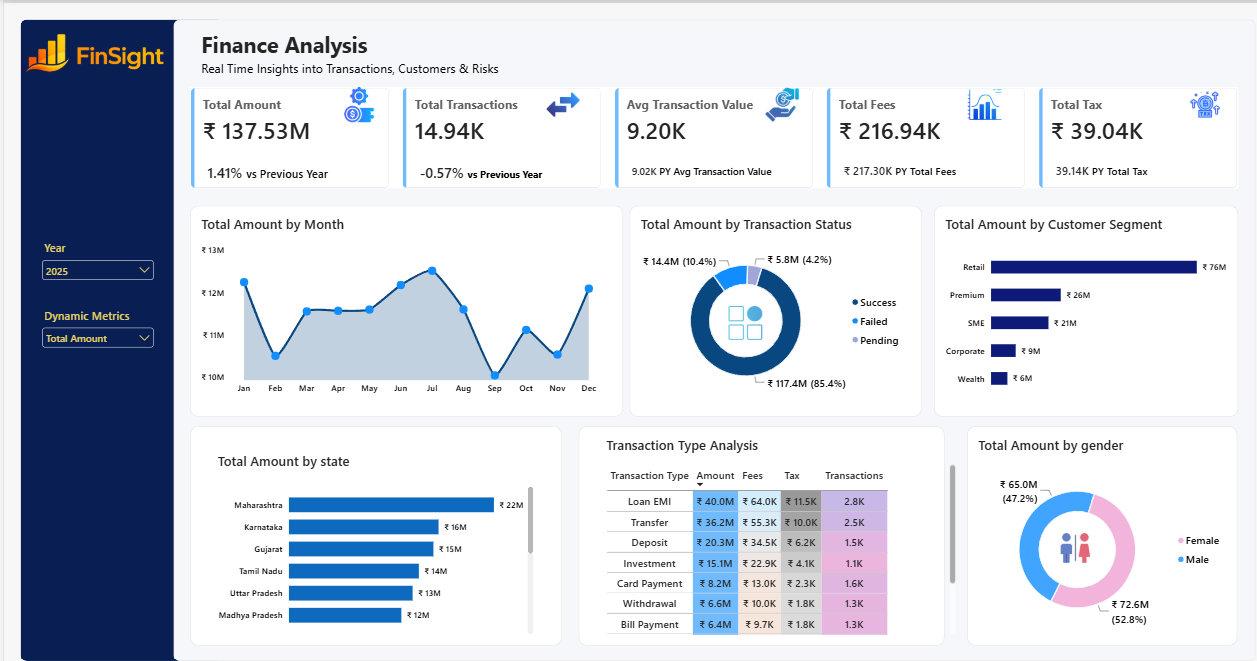

The page's visual inventory and layout, read from the dashboard file:
{"tool":"powerbi","page":{"name":"Page 1","canvas":[1800,950],"ordinal":0},"visuals":[{"type":"shape","box":[24,24,288,912],"z":0},{"type":"shape","box":[240,24,1536,912],"z":1000},{"type":"image","box":[24,24,216,96],"z":2000},{"type":"cardVisual","fields":{"Data":["finance_transactions.Dashboard Title"]},"box":[264,0,456,144],"z":3000},{"type":"cardVisual","fields":{"Data":["finance_transactions.Total Amount","finance_transactions.Total Transactions","finance_transactions.Avg Transaction Value","finance_transactions.Total Fees","finance_transactions.Total Tax"]},"box":[264,120,1488,144],"z":4000},{"type":"slicer","fields":{"Values":["Calnedar Table.Year"]},"box":[48,336,168,96],"z":5000},{"type":"image","box":[480,120,50,50],"z":6000},{"type":"image","box":[768,120,50,50],"z":7000},{"type":"image","box":[1080,120,50,50],"z":8000},{"type":"image","box":[1368,120,50,50],"z":9000},{"type":"image","box":[1680,120,50,50],"z":10000},{"type":"slicer","fields":{"Values":["Dynamic Metrics.Dynamic Metrics"]},"box":[48,432,168,72],"z":11000},{"type":"shape","box":[264,288,615,300],"z":12000},{"type":"areaChart","title":"Total Amount by Month","fields":{"Category":["Calnedar Table.Month"],"Y":["finance_transactions.Total Amount"]},"box":[264,288,600,288],"z":13000},{"type":"shape","box":[888,288,415,300],"z":14000},{"type":"donutChart","fields":{"Category":["finance_transactions.transaction_status"],"Y":["finance_transactions.Total Amount"]},"box":[888,288,408,288],"z":15000},{"type":"shape","box":[1320,288,432,300],"z":16000},{"type":"barChart","fields":{"Category":["customers.customer_segment"],"Y":["finance_transactions.Total Amount"]},"box":[1320,288,432,288],"z":17000},{"type":"shape","box":[264,600,528,312],"z":18000},{"type":"barChart","fields":{"Category":["customers.state"],"Y":["finance_transactions.Total Amount"]},"box":[288,624,480,288],"z":19000},{"type":"shape","box":[816,600,520,312],"z":20000},{"type":"tableEx","title":"Transaction Type Analysis","fields":{"Values":["finance_transactions.transaction_type","finance_transactions.Total Amount","finance_transactions.Total Fees","finance_transactions.Total Tax","finance_transactions.Total Transactions"]},"box":[840,600,528,312],"z":21000},{"type":"shape","box":[1368,600,384,312],"z":21001},{"type":"donutChart","fields":{"Category":["customers.gender"],"Y":["finance_transactions.Total Amount"]},"box":[1368,600,384,312],"z":21002},{"type":"image","box":[1029,430,48,48],"z":21003},{"type":"image","box":[1496,750,48,48],"z":21004}]}

Visuals, with their boxes on the page's 1800x950 design canvas (x1, y1, x2, y2). These are canvas units, not pixel positions in the 1257x661 screenshot, which may show the page scaled, cropped or inside an application window:
shape: crop(24, 24, 312, 936)
shape: crop(240, 24, 1776, 936)
image: crop(24, 24, 240, 120)
cardVisual - finance_transactions.Dashboard Title: crop(264, 0, 720, 144)
cardVisual - finance_transactions.Total Amount x finance_transactions.Total Transactions: crop(264, 120, 1752, 264)
slicer - Calnedar Table.Year: crop(48, 336, 216, 432)
image: crop(480, 120, 530, 170)
image: crop(768, 120, 818, 170)
image: crop(1080, 120, 1130, 170)
image: crop(1368, 120, 1418, 170)
image: crop(1680, 120, 1730, 170)
slicer - Dynamic Metrics.Dynamic Metrics: crop(48, 432, 216, 504)
shape: crop(264, 288, 879, 588)
"Total Amount by Month" areaChart: crop(264, 288, 864, 576)
shape: crop(888, 288, 1303, 588)
donutChart - finance_transactions.transaction_status x finance_transactions.Total Amount: crop(888, 288, 1296, 576)
shape: crop(1320, 288, 1752, 588)
barChart - customers.customer_segment x finance_transactions.Total Amount: crop(1320, 288, 1752, 576)
shape: crop(264, 600, 792, 912)
barChart - customers.state x finance_transactions.Total Amount: crop(288, 624, 768, 912)
shape: crop(816, 600, 1336, 912)
"Transaction Type Analysis" tableEx: crop(840, 600, 1368, 912)
shape: crop(1368, 600, 1752, 912)
donutChart - customers.gender x finance_transactions.Total Amount: crop(1368, 600, 1752, 912)
image: crop(1029, 430, 1077, 478)
image: crop(1496, 750, 1544, 798)
